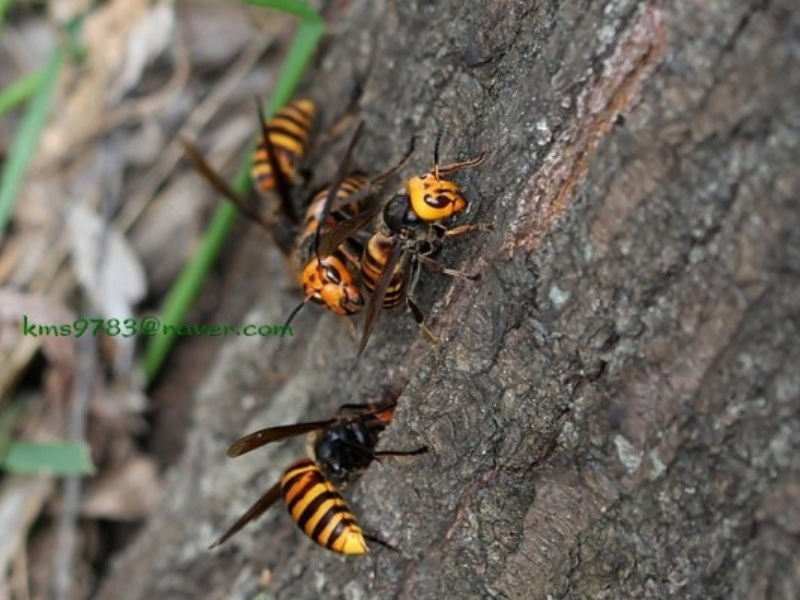asian_giant_hornet: (277, 399, 405, 558), (355, 159, 475, 322), (296, 168, 383, 315), (250, 93, 322, 267)
